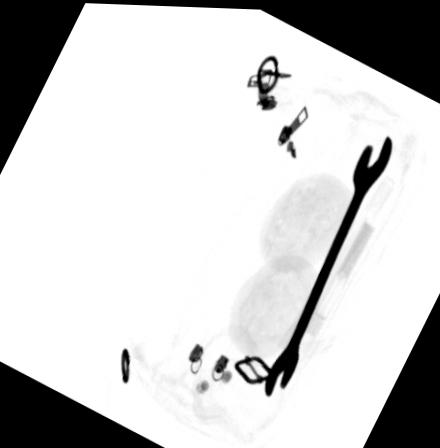Wrench: (263, 126, 395, 395)
